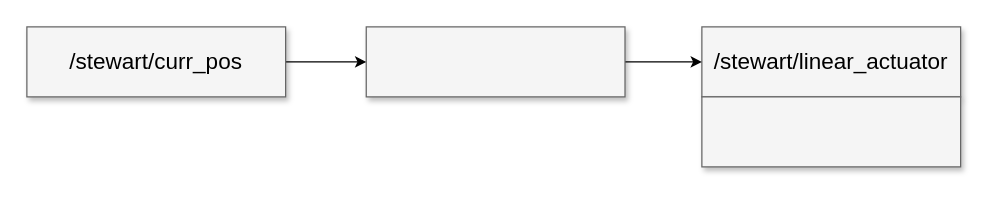
Some shapes in this 990 by 198 pixel diagram are drawn without their labels. The shapes that lost their labels are listed below. From the top down, each one's centre as x and y in pixels, then its label:
(x=496, y=63): ik
(x=832, y=133): /gz_cmd
